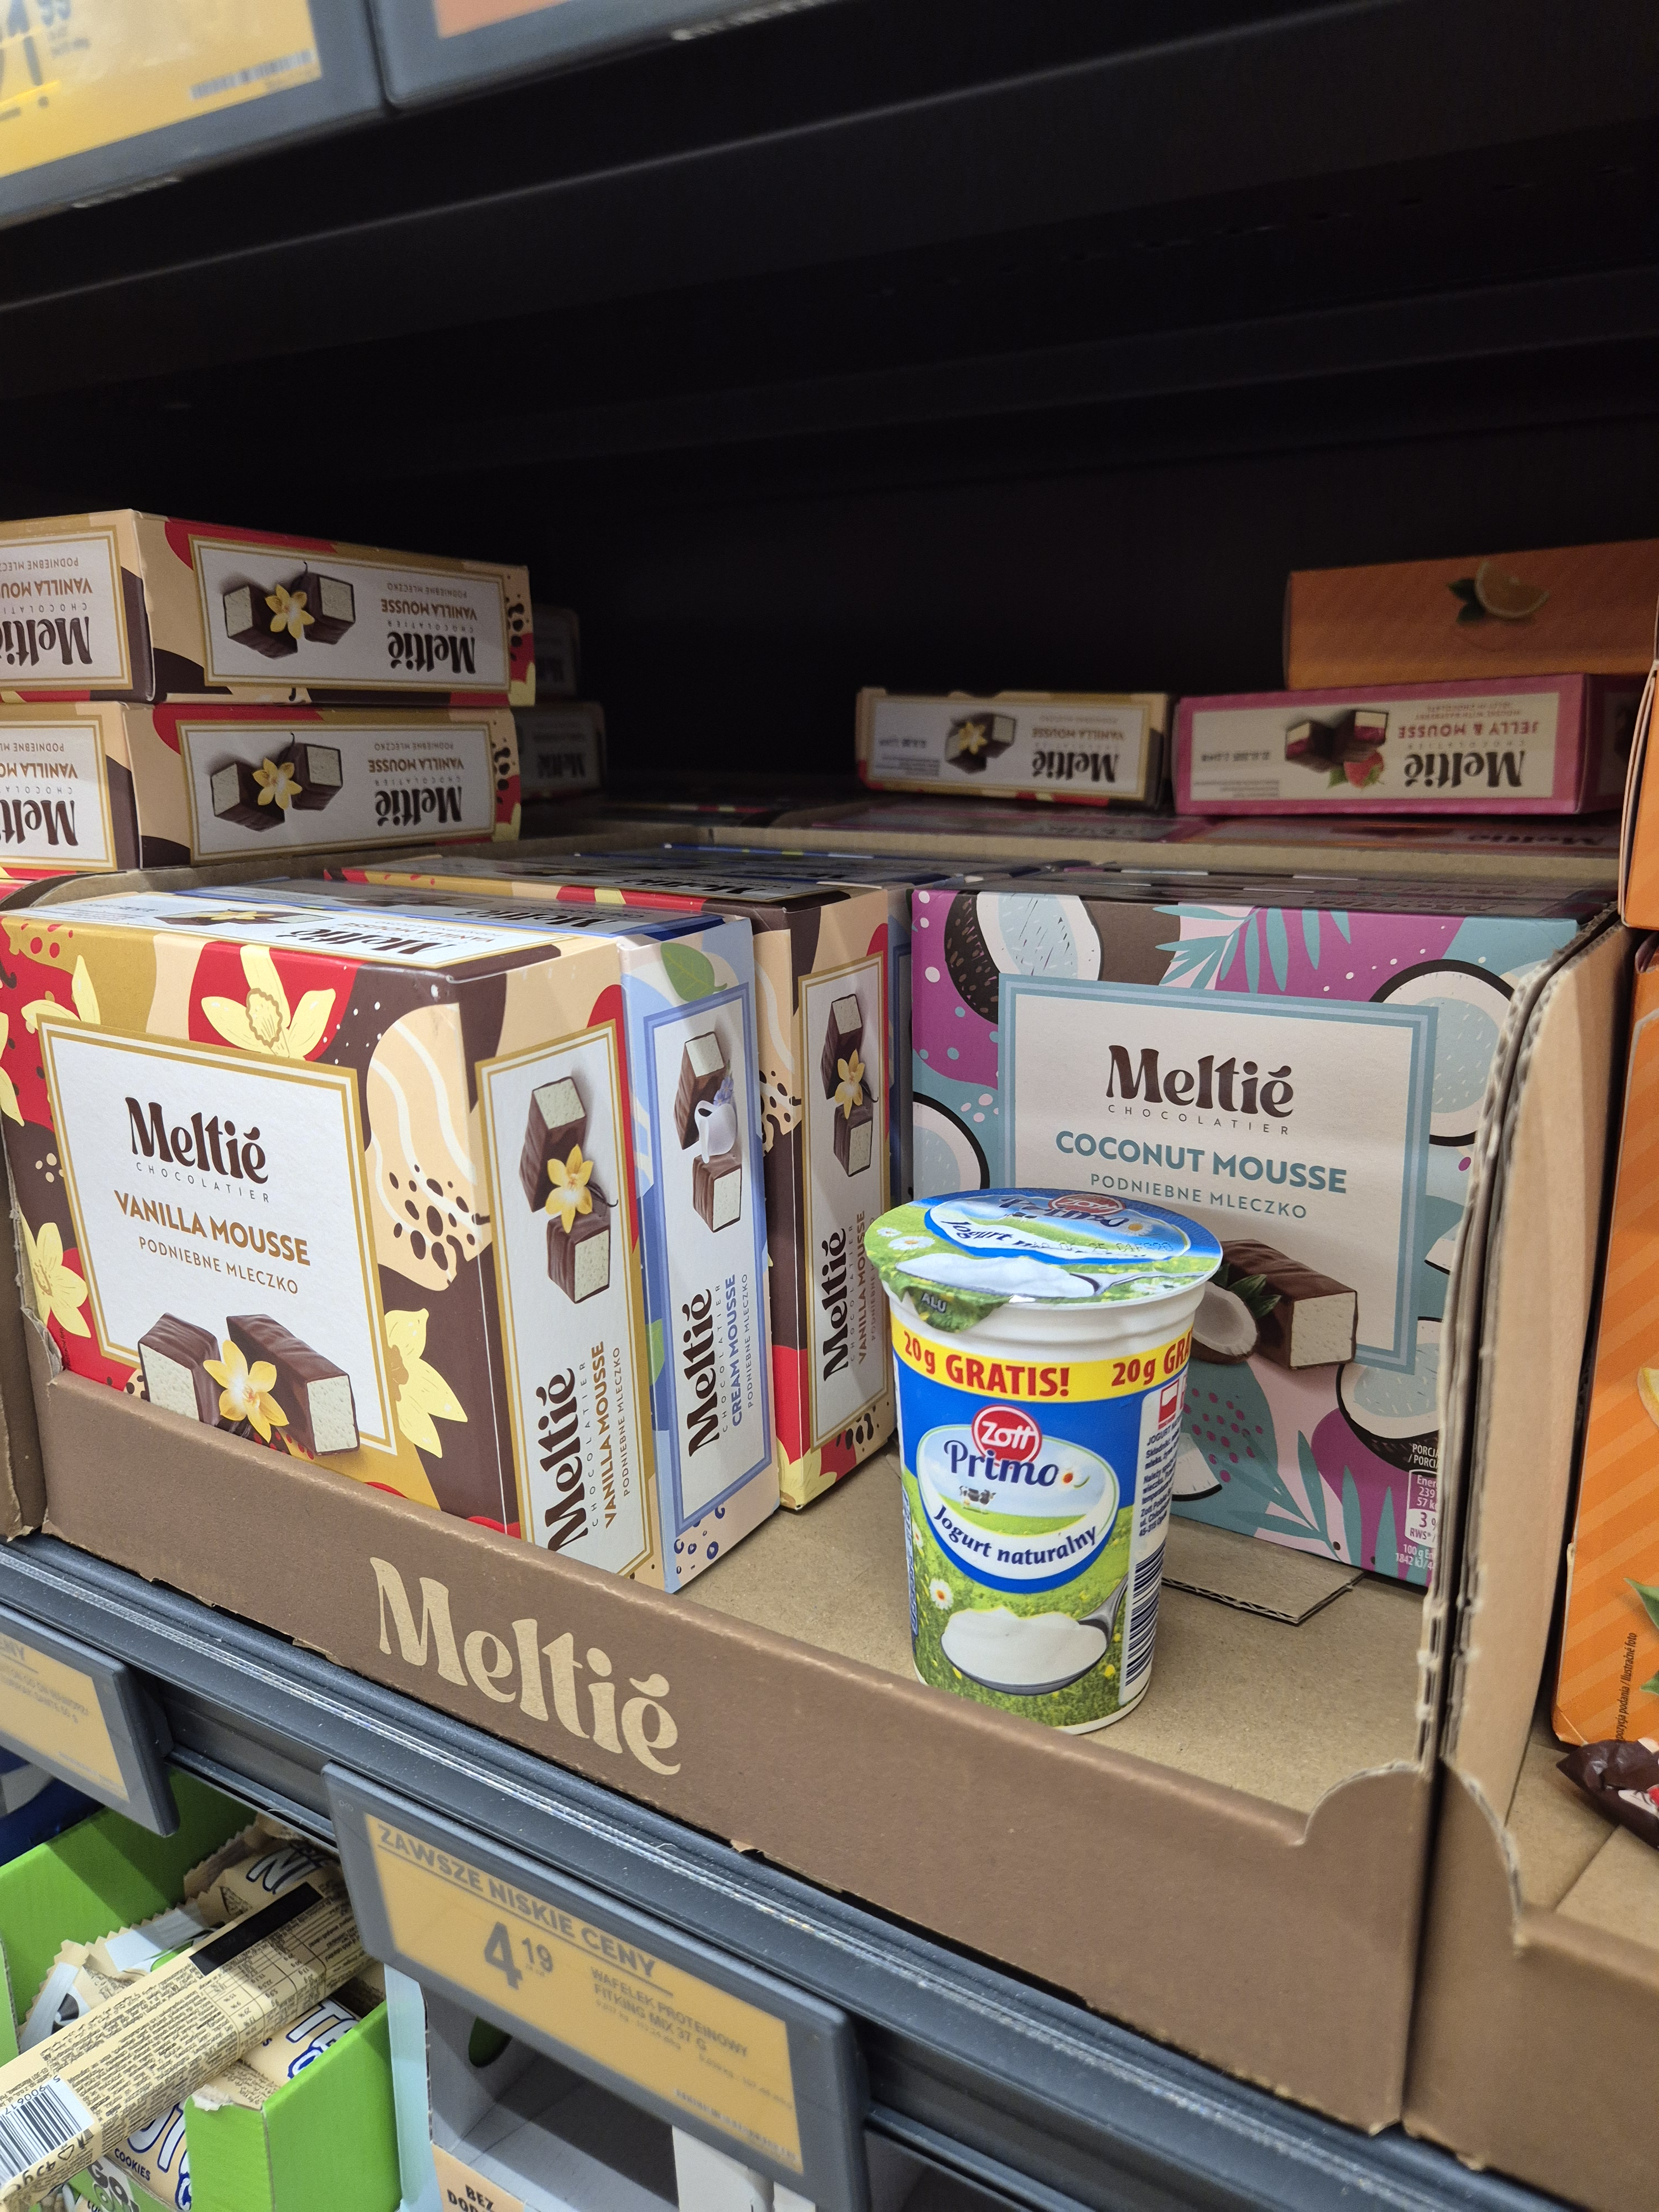Yogurt: (854, 1183, 1215, 1764)
